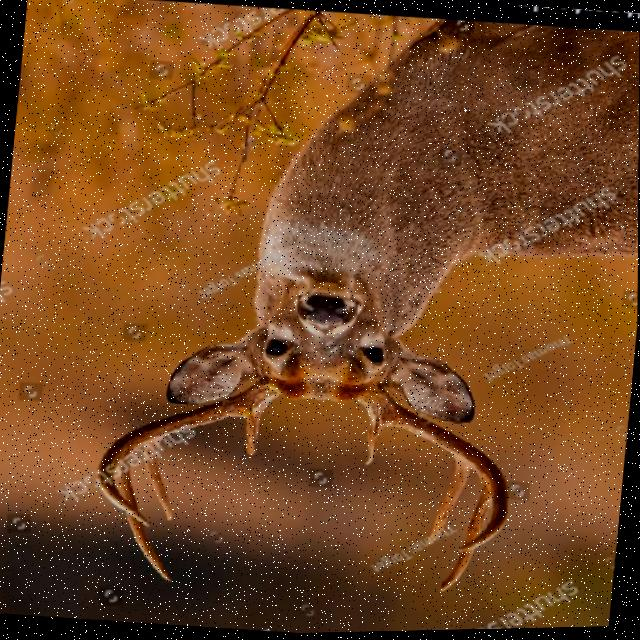L-F: (97, 378, 284, 527)
L-G1: (245, 413, 262, 457)
L-G2: (144, 438, 174, 522)
R-F: (355, 387, 509, 554)
R-G1: (365, 417, 386, 467)
R-G2: (428, 459, 471, 546)
